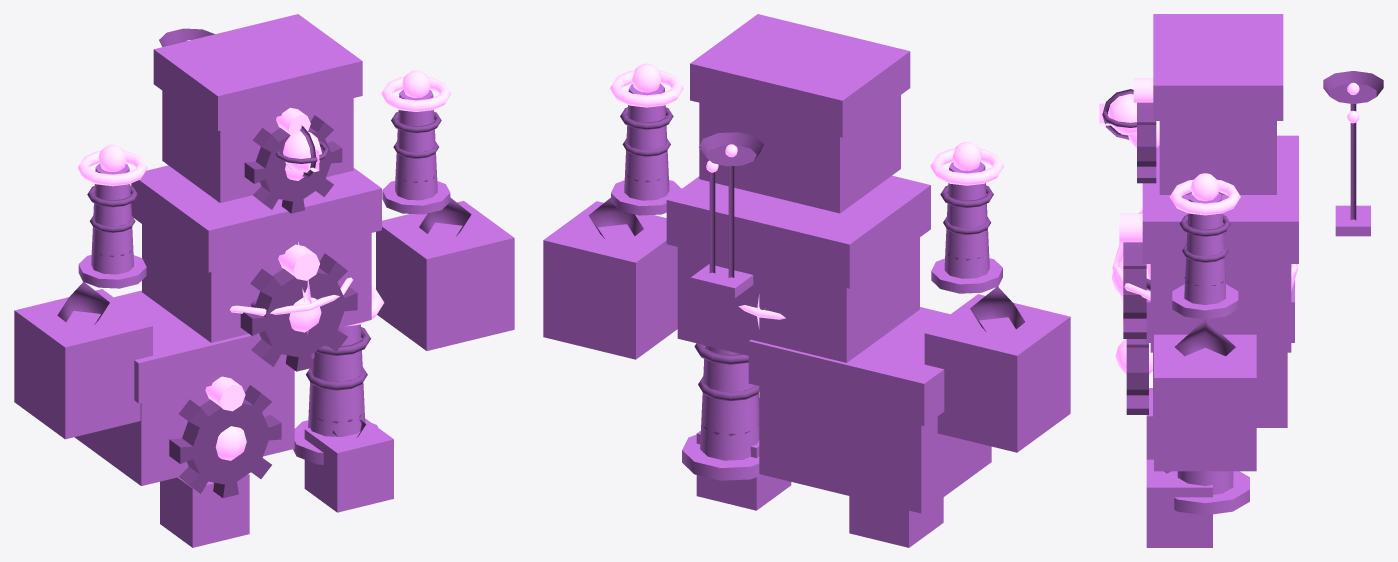
File: golem_135.glb
The picture shows the model from 3 angles, left to right: view 1: azimuth 30°, elevation 25°; view 2: azimuth 150°, elevation 25°; view 3: azimuth 270°, elevation 25°; orthographic projection. The views are drawn at different scales.
Visible parts, largest first — view 1: Body, Detail, Glow; view 2: Body, Detail, Glow; view 3: Body, Detail, Glow.
Boxes of the visible parts, x1,y1,x2,y2 form: Body: (14,14,514,547); Detail: (57,28,471,498); Glow: (77,40,451,460); Body: (543,14,1070,547); Detail: (588,107,1024,435); Glow: (609,63,1003,328); Body: (1130,14,1370,547); Detail: (1102,71,1383,473); Glow: (1099,78,1359,373).
Size of the model in its own units: 1.42 by 1.33 by 0.7651.
